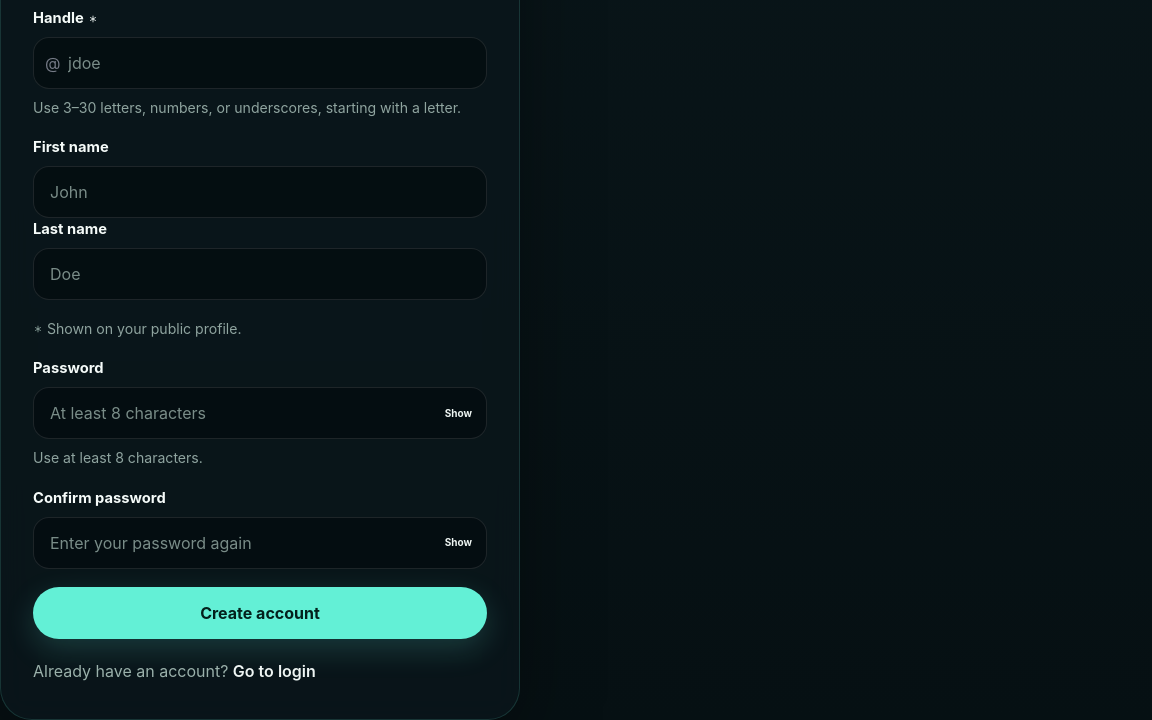
Test: RegisterPage › preserves the password value when showing and hiding it without submitting
The width and height of the screenshot is (1152, 720).
(page scrolled)
Type "secret-value" into the password field labelled "Password". click: (260, 413)
box: x1=33 y1=387 x2=487 y2=439
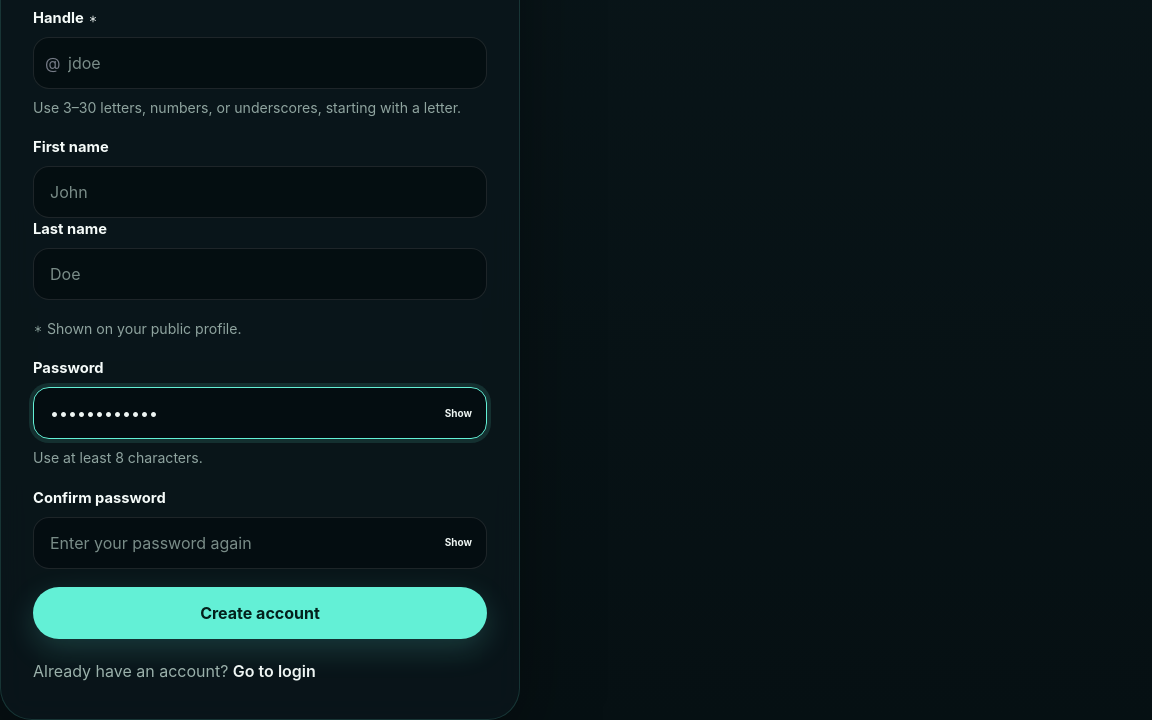
Click the 1st button "Show". click: (458, 413)
box: x1=438 y1=399 x2=479 y2=427
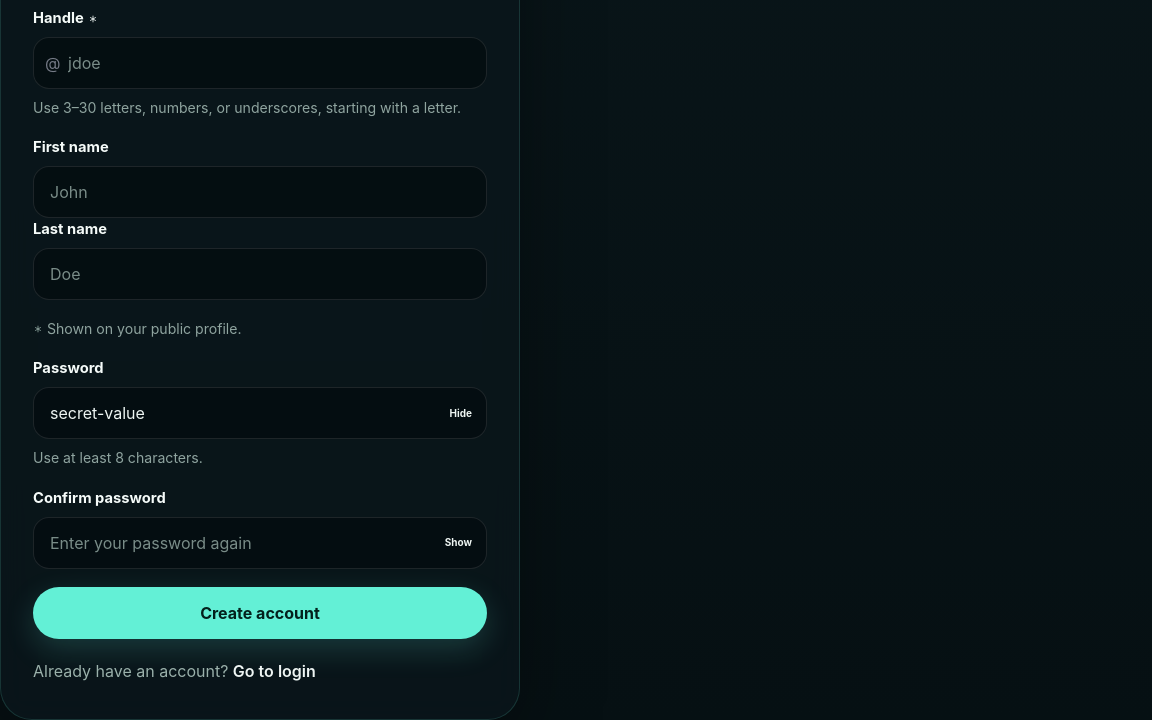
Now the field labelled "Password" shows its text, box x1=33 y1=387 x2=487 y2=439
Click the button "Hide". click: (461, 413)
box: x1=442 y1=399 x2=479 y2=427
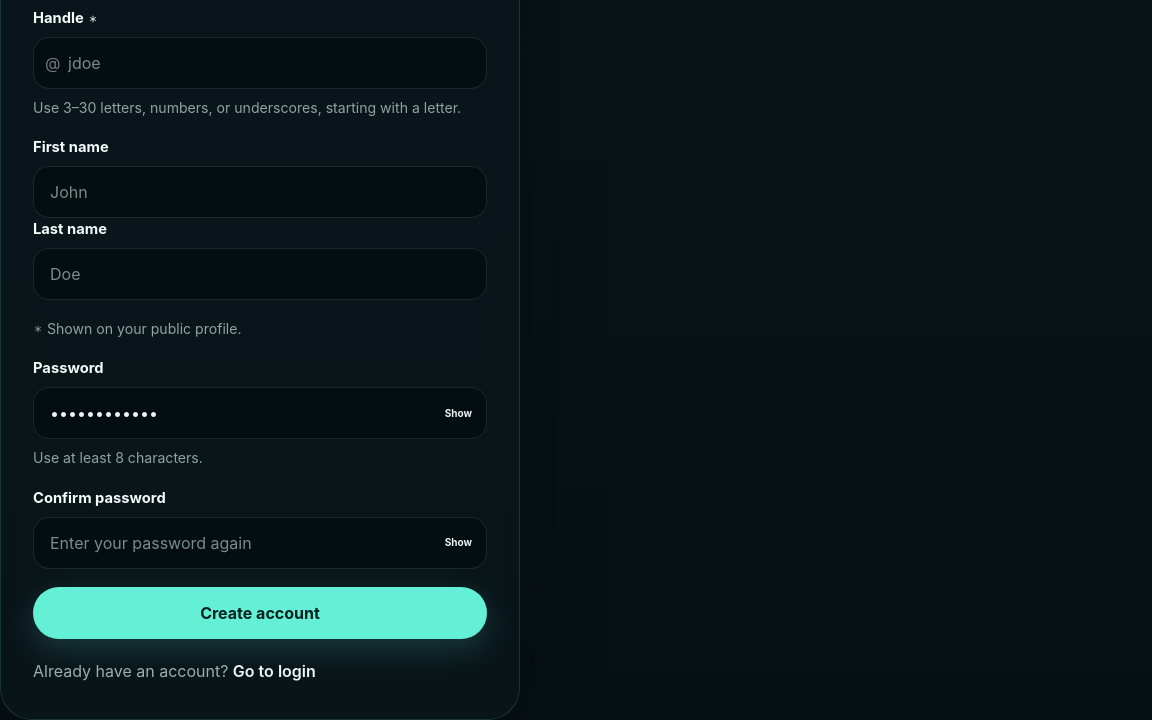
Now the password field labelled "Password" hides its text, box x1=33 y1=387 x2=487 y2=439
